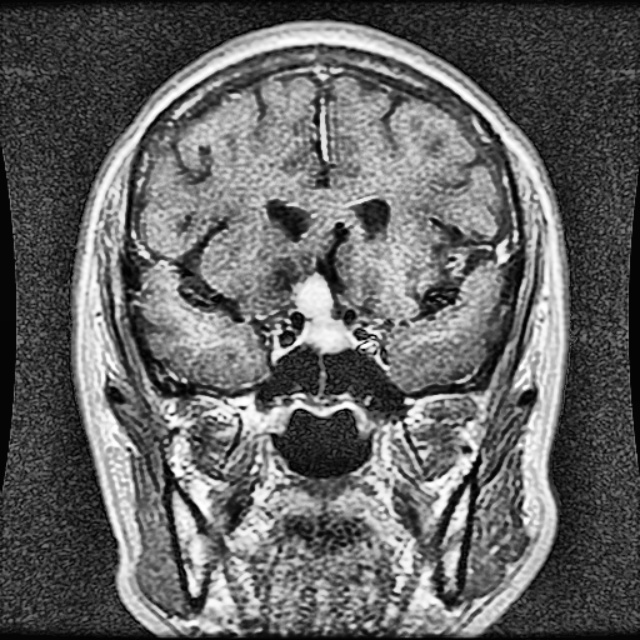Pituitary: (297, 278, 353, 353)
